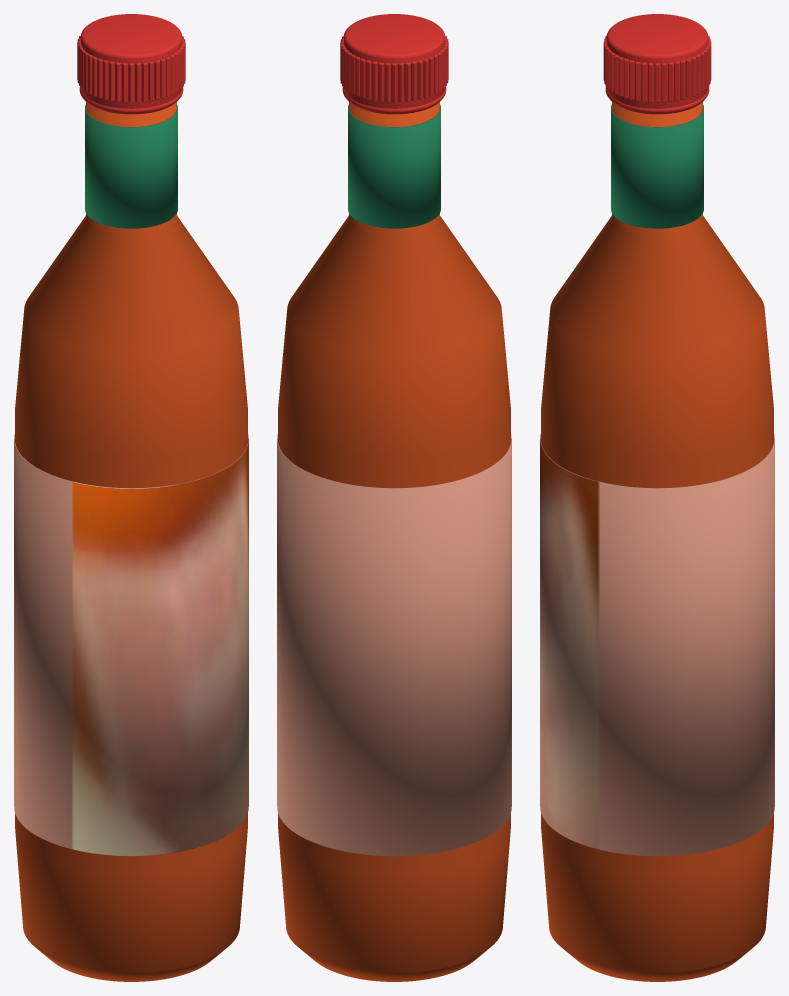
Rendered from fridge_contents__hot_sauce_bottle.glb.
The picture shows the model from 3 angles, left to right: view 1: azimuth 30°, elevation 25°; view 2: azimuth 150°, elevation 25°; view 3: azimuth 270°, elevation 25°; orthographic projection.
Parts seen in each view (by area): view 1: photo paper label, hollow container, neck band, removable closure, closure lower bead; view 2: photo paper label, hollow container, neck band, removable closure, closure lower bead; view 3: photo paper label, hollow container, neck band, removable closure, closure lower bead.
Boxes of the visible parts, box(x1,y1,x2,y2) form: photo paper label: box(14, 434, 248, 856); hollow container: box(15, 102, 247, 981); neck band: box(85, 104, 177, 228); removable closure: box(80, 14, 182, 114); closure lower bead: box(79, 86, 183, 113); photo paper label: box(277, 434, 511, 856); hollow container: box(278, 102, 510, 981); neck band: box(348, 104, 440, 228); removable closure: box(343, 14, 445, 114); closure lower bead: box(342, 86, 446, 113); photo paper label: box(540, 434, 774, 856); hollow container: box(541, 102, 773, 981); neck band: box(611, 104, 703, 228); removable closure: box(606, 14, 708, 114); closure lower bead: box(605, 87, 709, 113).
Bounding box in the file's own units: 0.0463 × 0.2 × 0.0463.
Materials: 4 (1 with a texture image).
